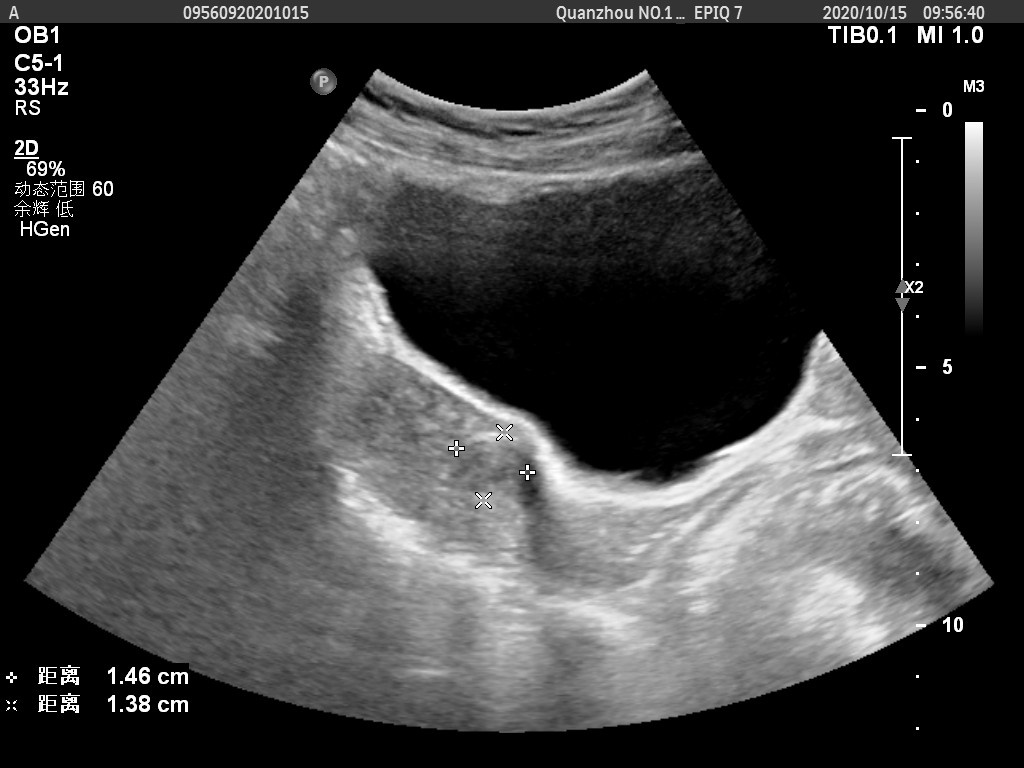肌瘤: (459, 444, 517, 500)
